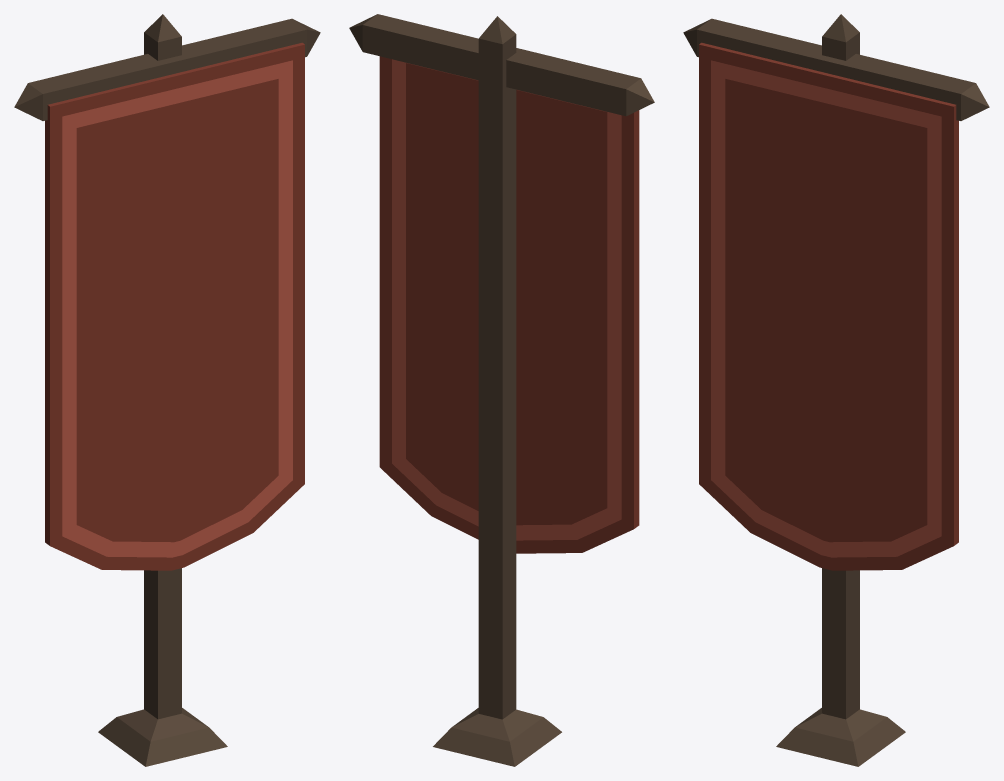
The model's file is Banner_4_Red.fbx.
3 renders of one model, left to right at view 1: azimuth 30°, elevation 25°; view 2: azimuth 150°, elevation 25°; view 3: azimuth 330°, elevation 25°, orthographic.
Visible parts, largest first — view 1: Banner_4_Red_Part_2, Banner_4_Red_Part_3, Banner_4_Red_Part_1; view 2: Banner_4_Red_Part_2, Banner_4_Red_Part_1, Banner_4_Red_Part_3; view 3: Banner_4_Red_Part_2, Banner_4_Red_Part_3, Banner_4_Red_Part_1.
Boxes of the visible parts, bbox=[...] form: Banner_4_Red_Part_2: bbox=[45, 42, 304, 570]; Banner_4_Red_Part_3: bbox=[62, 60, 292, 557]; Banner_4_Red_Part_1: bbox=[14, 14, 320, 766]; Banner_4_Red_Part_2: bbox=[379, 56, 639, 553]; Banner_4_Red_Part_1: bbox=[349, 14, 654, 766]; Banner_4_Red_Part_3: bbox=[392, 59, 621, 540]; Banner_4_Red_Part_2: bbox=[699, 42, 958, 570]; Banner_4_Red_Part_3: bbox=[711, 60, 941, 557]; Banner_4_Red_Part_1: bbox=[683, 14, 989, 766].
Bounding box in the file's own units: 120 × 272 × 32.4.
